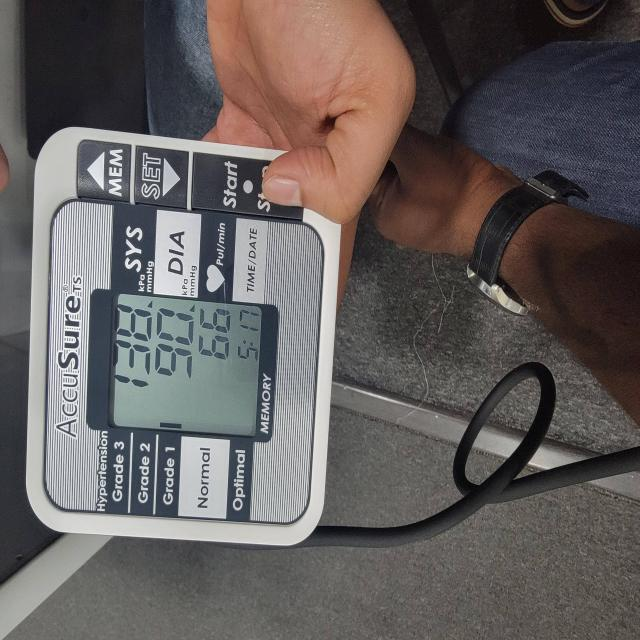bp: (24, 128, 337, 549)
